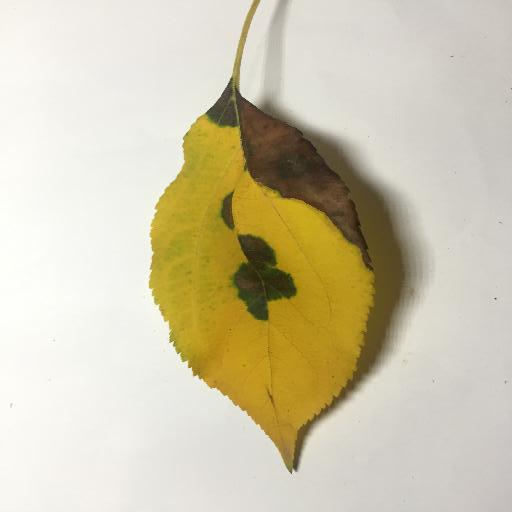Brown_Spot: (236, 114, 372, 259), (235, 240, 288, 307), (212, 199, 241, 226)
